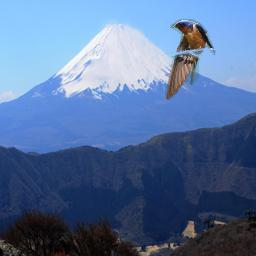Swallow: (165, 19, 216, 100)
